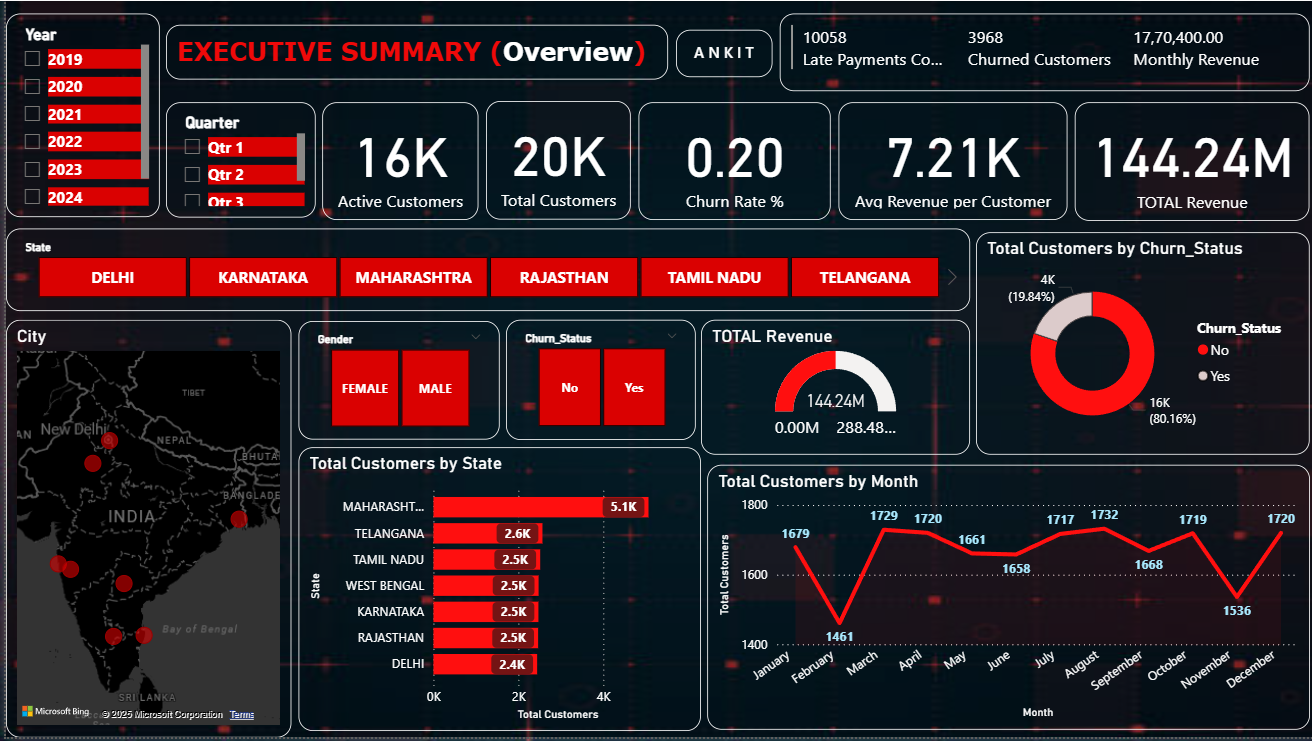

This screenshot's page, from the dashboard's own definition file:
{"tool":"powerbi","page":{"name":"EXECUTIVE SUMMARY ","canvas":[1280,720],"ordinal":0},"visuals":[{"type":"card","fields":{"Values":["Subscriptions.Total Customers"]},"box":[469.6,97.8,141.8,116.2],"z":0},{"type":"card","fields":{"Values":["Subscriptions.TOTAL Revenue"]},"box":[1045.5,99,229.9,116.2],"z":1000},{"type":"card","fields":{"Values":["Subscriptions.Active Customers"]},"box":[309.4,99,152.9,114.9],"z":2000},{"type":"card","fields":{"Values":["Subscriptions.Churn Rate %"]},"box":[618.8,99,188.3,114.9],"z":3000},{"type":"card","fields":{"Values":["Subscriptions.Avg Revenue per Customer"]},"box":[814.4,99,223.8,114.9],"z":4000},{"type":"multiRowCard","fields":{"Values":["Subscriptions.Late Payments Count","Subscriptions.Churned Customers","Subscriptions.Monthly Revenue"]},"box":[756.9,12.2,518.5,75.8],"z":5000},{"type":"donutChart","fields":{"Y":["Subscriptions.Total Customers"],"Category":["Customers.Churn_Status"]},"box":[948.9,226.2,326.5,217.7],"z":6000},{"type":"barChart","fields":{"Category":["Customers.State"],"Y":["Subscriptions.Total Customers"]},"box":[286.1,436.6,393.8,277.6],"z":7000},{"type":"lineChart","fields":{"Y":["Subscriptions.Total Customers"],"Category":["Customers.Join_Date.Variation.Date Hierarchy.Month"]},"box":[686,453.7,589.4,259.2],"z":8000},{"type":"map","fields":{"Category":["Customers.City"]},"box":[0,311.8,278.8,408.4],"z":9000},{"type":"advancedSlicerVisual","fields":{"Values":["Customers.Gender"]},"box":[286.1,313,196.9,116.2],"z":10000},{"type":"advancedSlicerVisual","fields":{"Values":["Customers.State"]},"box":[0,226.2,948.9,85.6],"z":11000},{"type":"advancedSlicerVisual","fields":{"Values":["Customers.Churn_Status"]},"box":[489.1,311.8,185.9,117.4],"z":12000},{"type":"advancedSlicerVisual","fields":{"Values":["Customers.Join_Date.Variation.Date Hierarchy.Year"]},"box":[0,12.2,150.4,199.3],"z":13000},{"type":"gauge","fields":{"Y":["Subscriptions.TOTAL Revenue"]},"box":[679.9,311.8,262.9,132.1],"z":14000},{"type":"advancedSlicerVisual","fields":{"Values":["Customers.Join_Date.Variation.Date Hierarchy.Quarter"]},"box":[156.5,99,146.7,112.5],"z":15000},{"type":"textbox","box":[156.5,23.2,491.6,53.8],"z":16000},{"type":"textbox","box":[655.4,28.1,94.2,46.5],"z":17000}]}

Visuals, with their boxes in screenshot pixels (x1, y1, x2, y2), scaled from the page's 1280x720 canvas onto the 1312x741 screenshot:
card - Subscriptions.Total Customers: box=[481, 101, 627, 220]
card - Subscriptions.TOTAL Revenue: box=[1072, 102, 1307, 221]
card - Subscriptions.Active Customers: box=[317, 102, 474, 220]
card - Subscriptions.Churn Rate %: box=[634, 102, 827, 220]
card - Subscriptions.Avg Revenue per Customer: box=[835, 102, 1064, 220]
multiRowCard - Subscriptions.Late Payments Count x Subscriptions.Churned Customers: box=[776, 13, 1307, 91]
donutChart - Subscriptions.Total Customers x Customers.Churn_Status: box=[973, 233, 1307, 457]
barChart - Customers.State x Subscriptions.Total Customers: box=[293, 449, 697, 735]
lineChart - Subscriptions.Total Customers x Customers.Join_Date.Variation.Date Hierarchy.Month: box=[703, 467, 1307, 734]
map - Customers.City: box=[0, 321, 286, 740]
advancedSlicerVisual - Customers.Gender: box=[293, 322, 495, 442]
advancedSlicerVisual - Customers.State: box=[0, 233, 973, 321]
advancedSlicerVisual - Customers.Churn_Status: box=[501, 321, 692, 442]
advancedSlicerVisual - Customers.Join_Date.Variation.Date Hierarchy.Year: box=[0, 13, 154, 218]
gauge - Subscriptions.TOTAL Revenue: box=[697, 321, 966, 457]
advancedSlicerVisual - Customers.Join_Date.Variation.Date Hierarchy.Quarter: box=[160, 102, 311, 218]
textbox: box=[160, 24, 664, 79]
textbox: box=[672, 29, 768, 77]
